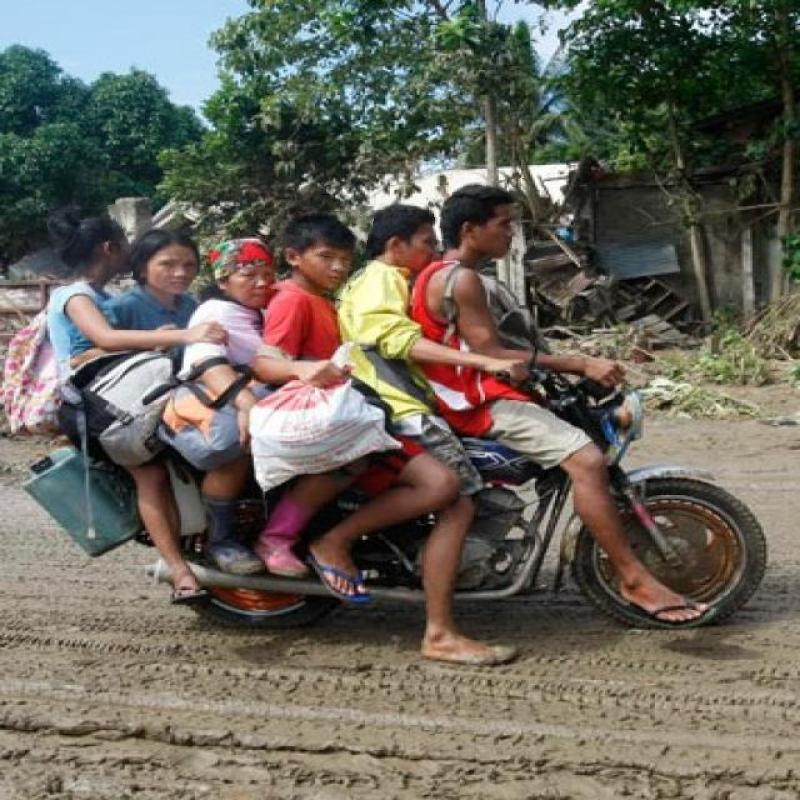nohelmet: (270, 205, 372, 300), (428, 181, 534, 260), (49, 206, 131, 285)
